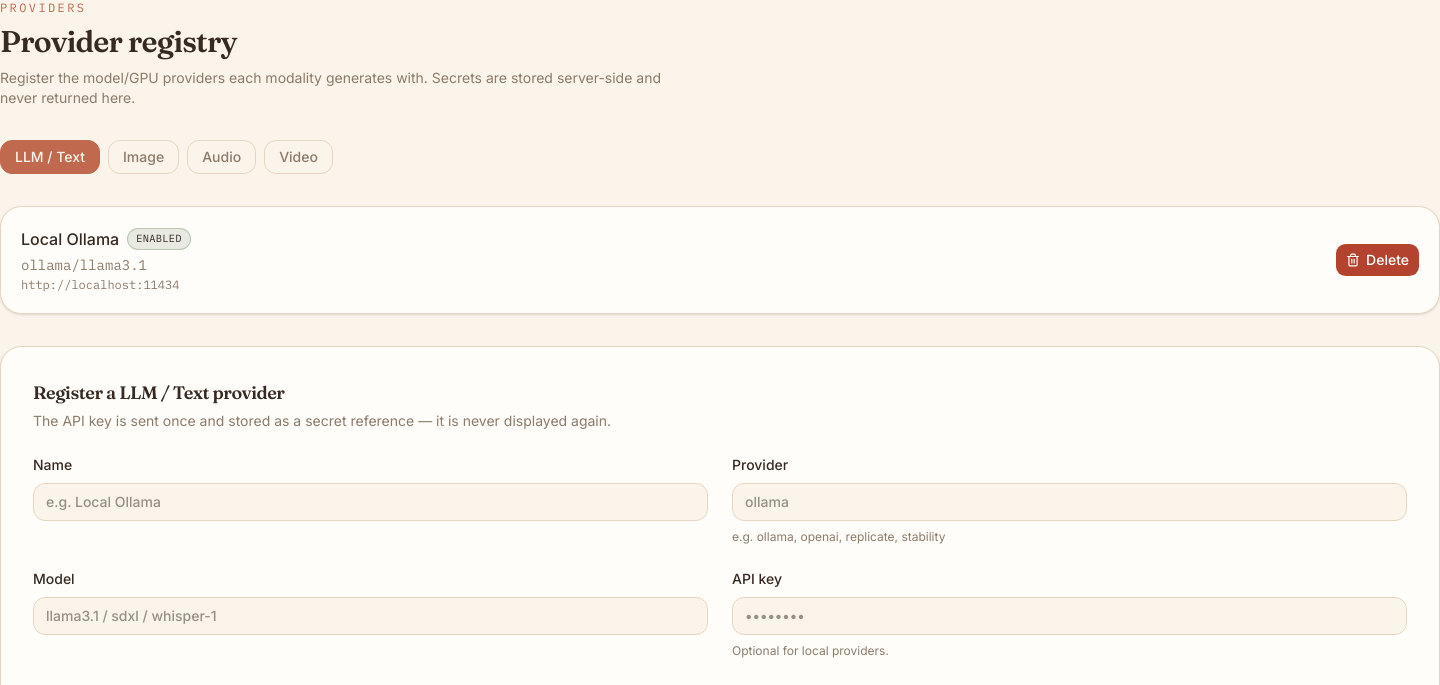
Scenario: ProvidersManager › switches registries when another modality tab is selected
The width and height of the screenshot is (1440, 685).
Expected: the text "Local Ollama" is shown, [21,227,119,251]
Click the tab "Image": [144, 157] box [108,140,179,174]
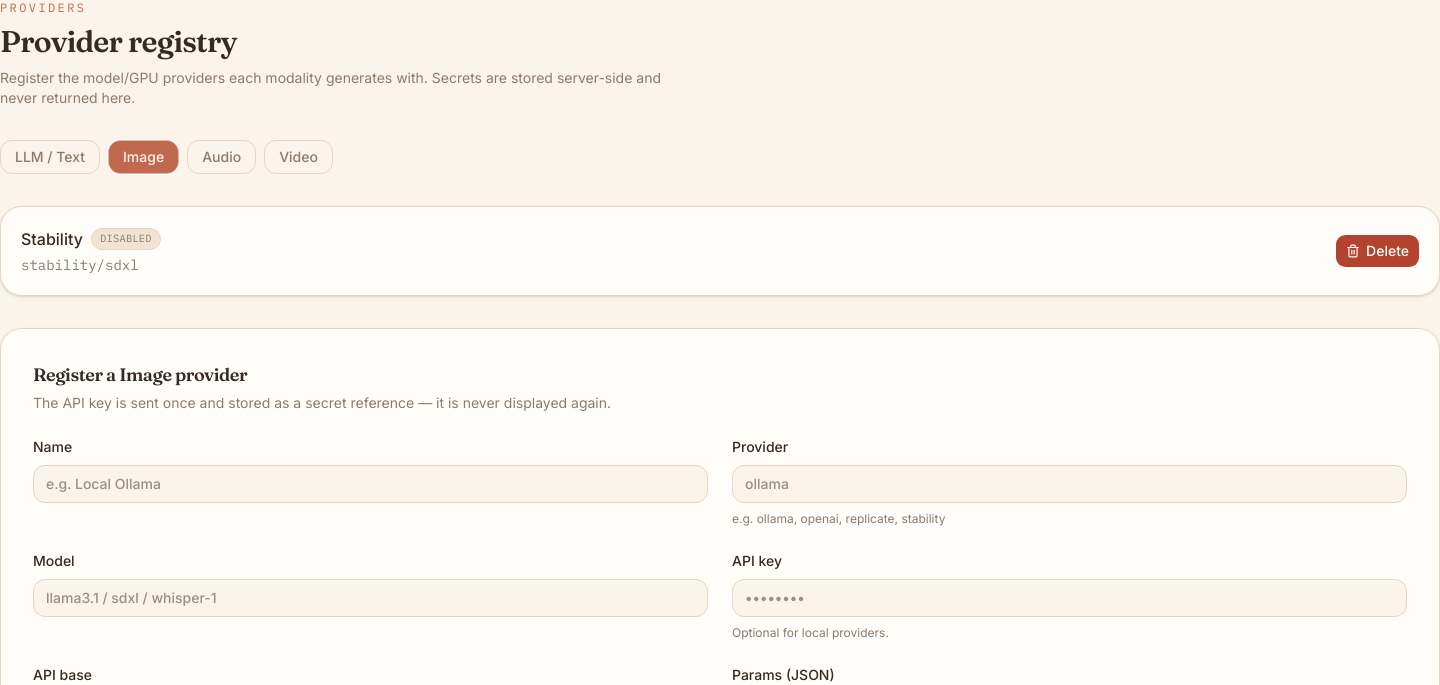
Expected: the text "Stability" is shown, [21,227,83,251]
Expected: the text "stability/sdxl" is shown, [21,256,139,274]
Expected: the text "disabled" is shown, [91,228,161,250]
